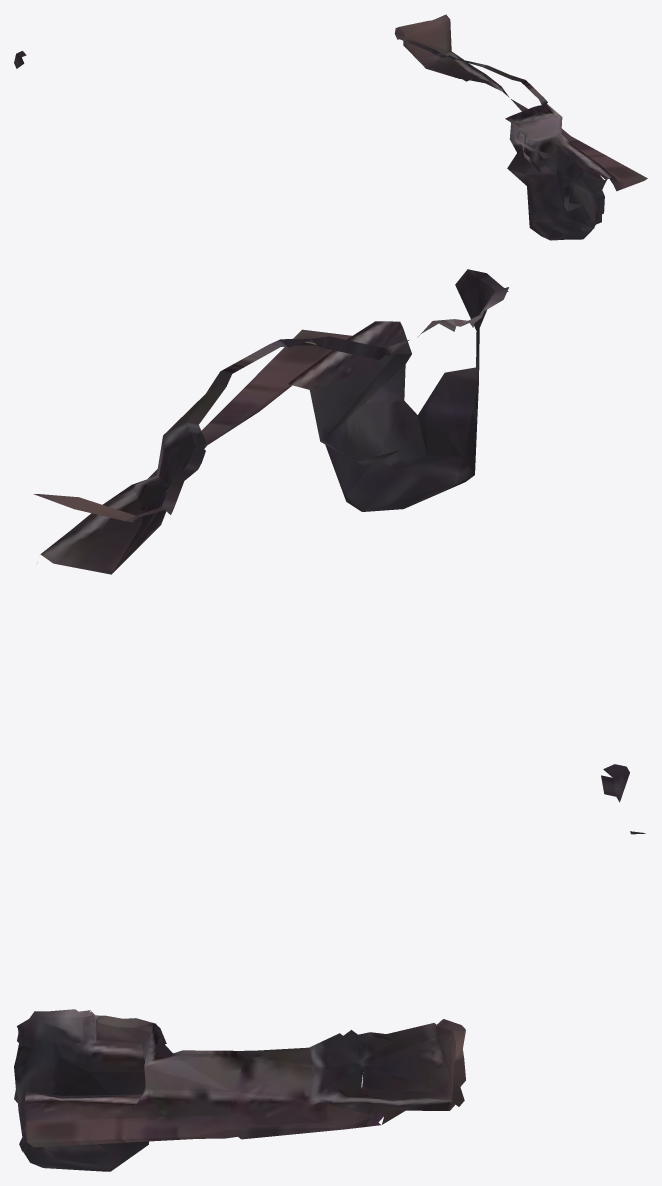
3 renders of one model, top to bottom at view 1: azimuth 30°, elevation 25°; view 2: azimuth 150°, elevation 25°; view 3: azimuth 270°, elevation 25°, orthographic. The views are drawn at different scales.
Parts seen in each view (by area): view 1: Mesh_0; view 2: Mesh_0; view 3: Mesh_0.
Boxes of the visible parts, x1=… form: Mesh_0: x1=14, y1=14, x2=647, y2=240; Mesh_0: x1=33, y1=269, x2=629, y2=802; Mesh_0: x1=14, y1=831, x2=645, y2=1171.
Bounding box in the file's own units: 33.33 × 8.26 × 35.62.
1 material, 1 textured.
